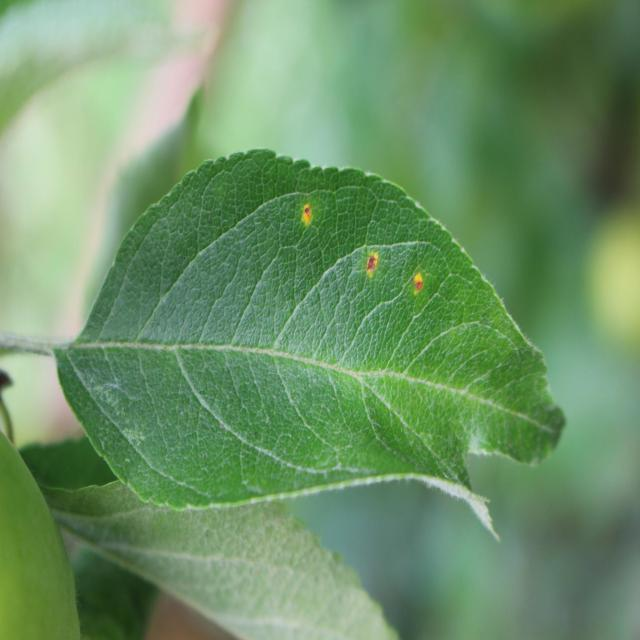Rust: (405, 261, 427, 312), (361, 242, 383, 284), (302, 194, 316, 240)
